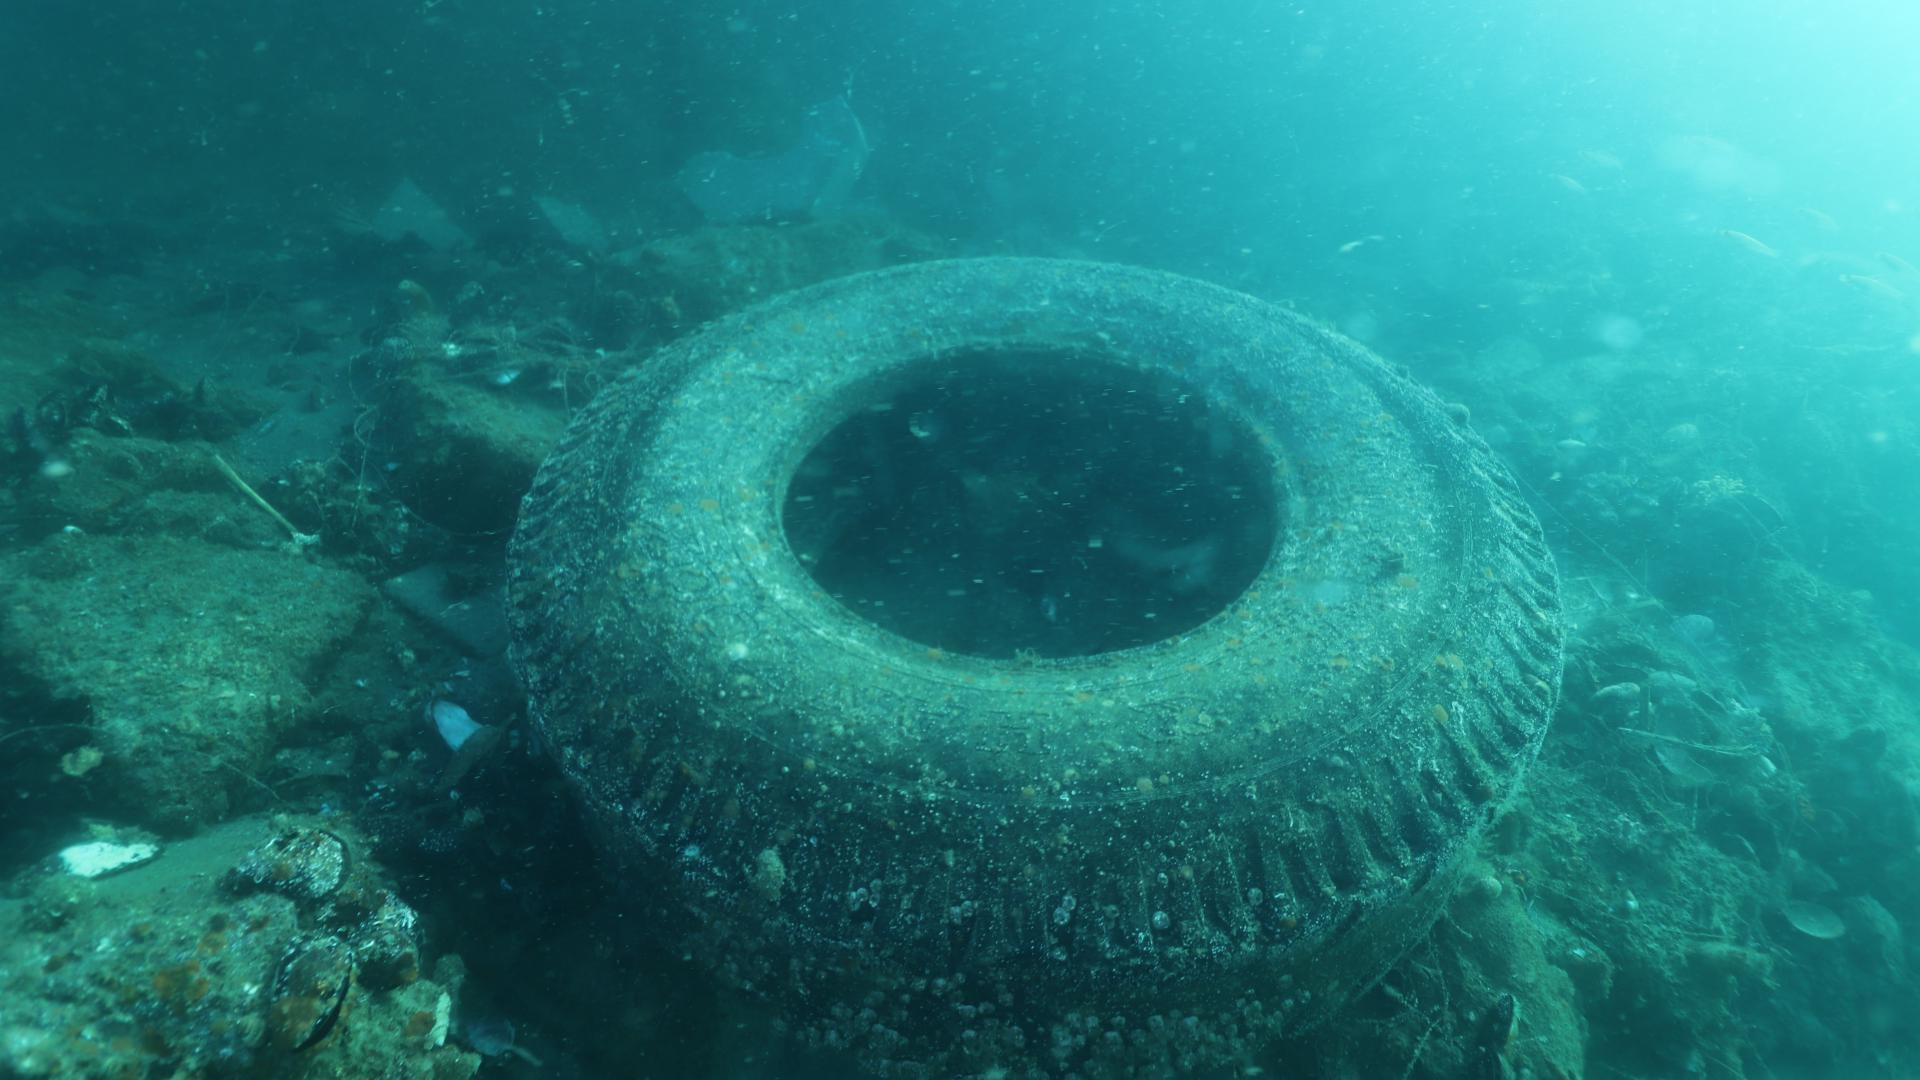tire: (498, 247, 1567, 1064)
